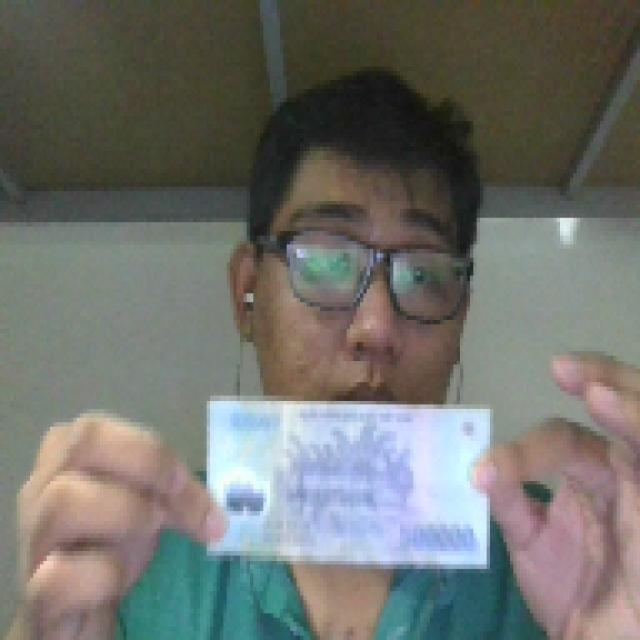500 000 VND: (200, 391, 497, 573)
